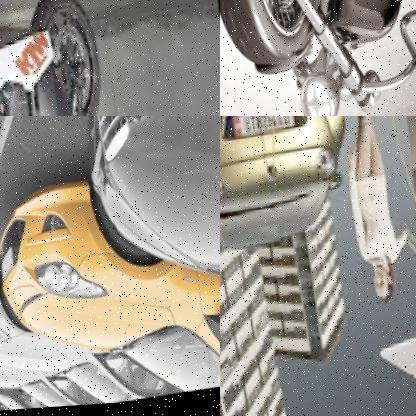bike: (220, 0, 416, 116)
car: (0, 172, 196, 398), (64, 116, 220, 342), (220, 116, 363, 265)
